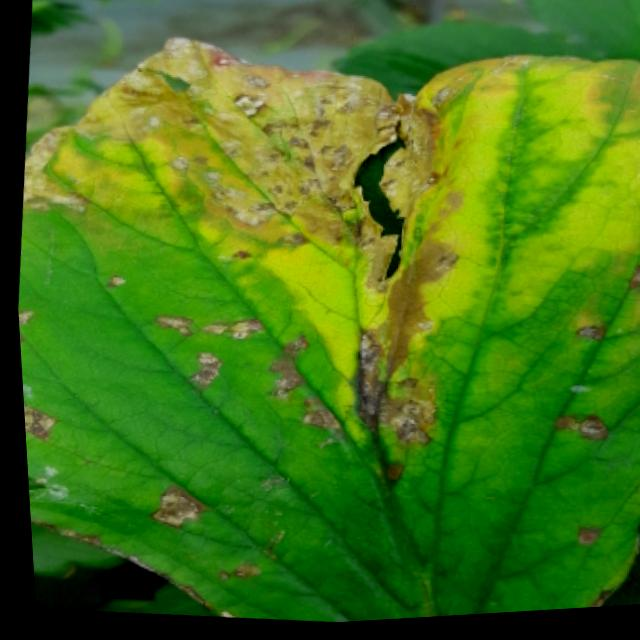Angular Leafspot: (14, 36, 640, 626)
